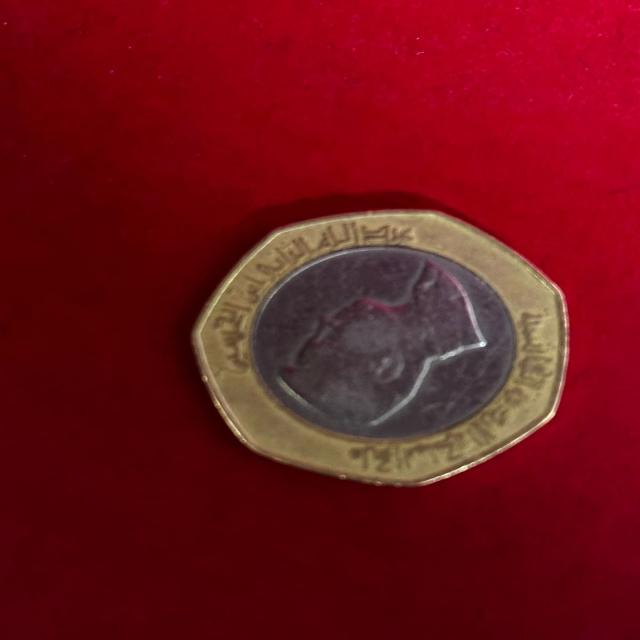50-coins: (188, 207, 574, 488)
